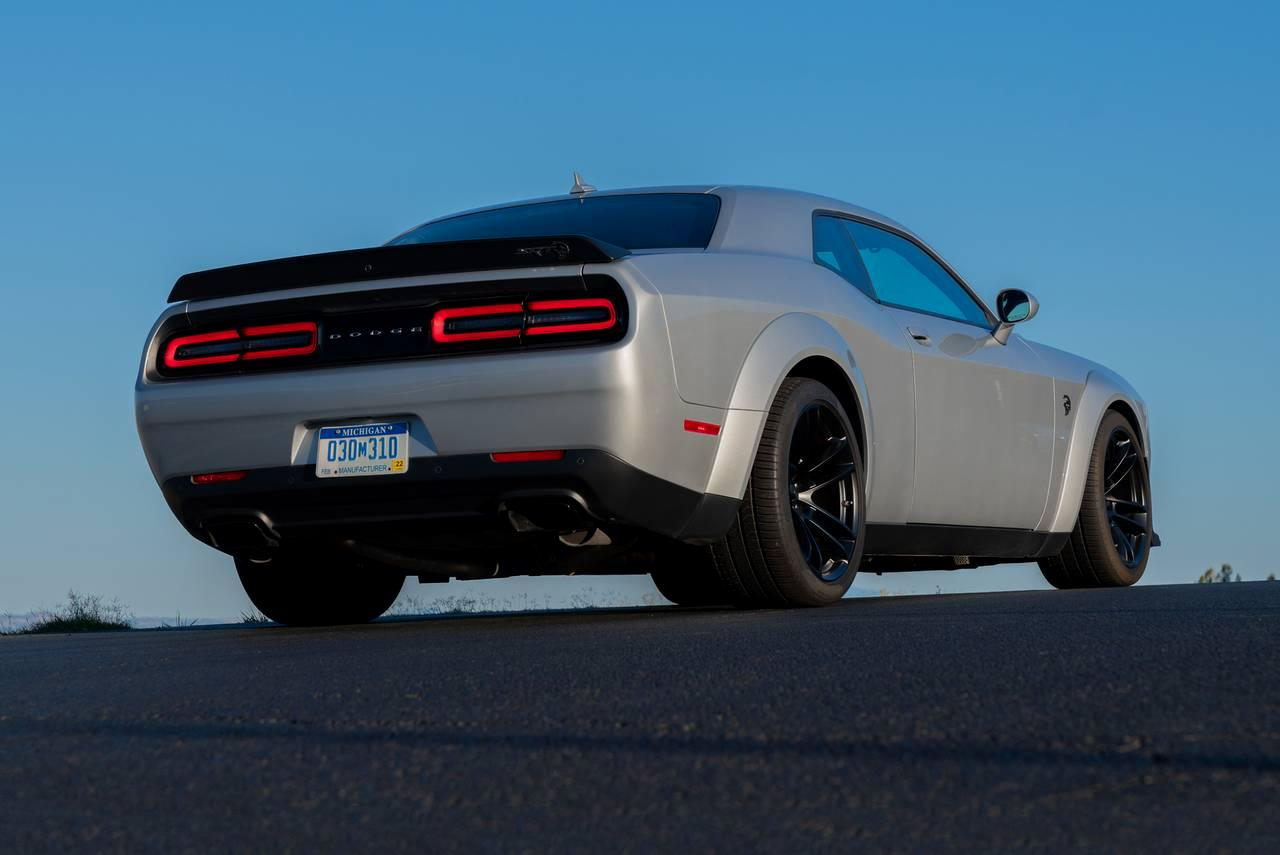dodge: (321, 315, 433, 353)
